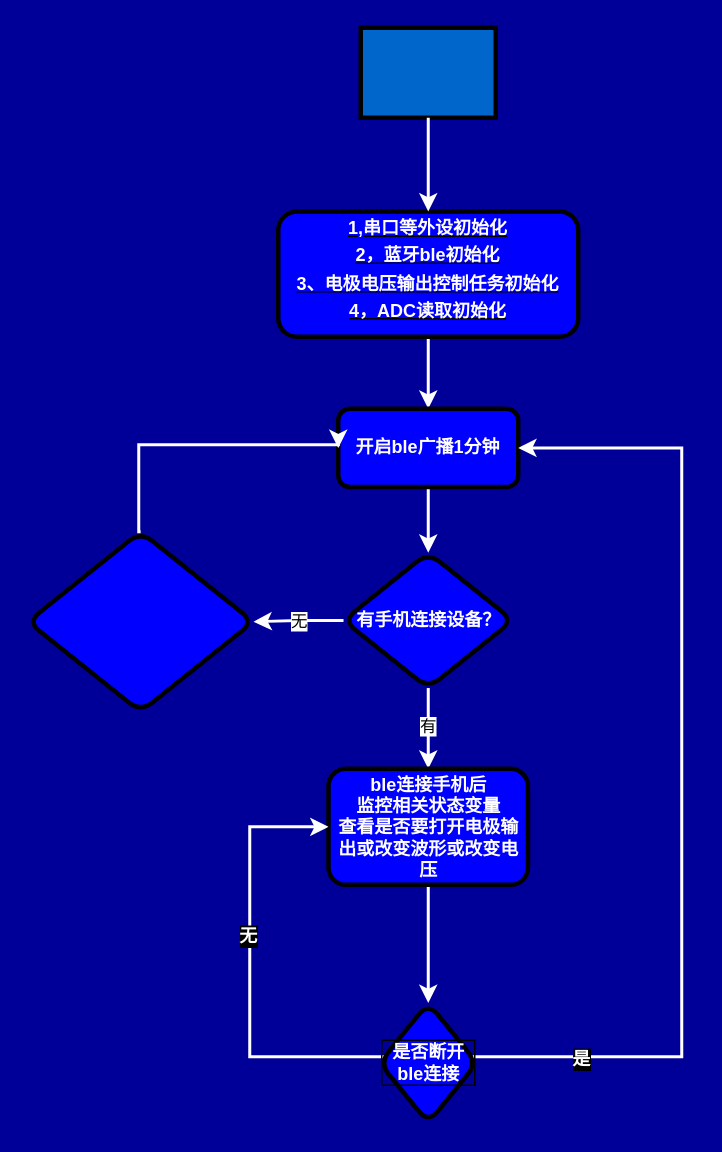
Image size: 722x1152. Some labels were removed from this diagram. Each missing label, with the centre of its shape:
"app start" goes at point 427,72.
"超过1分钟后关闭广播进入低功耗模式，间隔10分钟再打开广播" goes at point 140,621.
